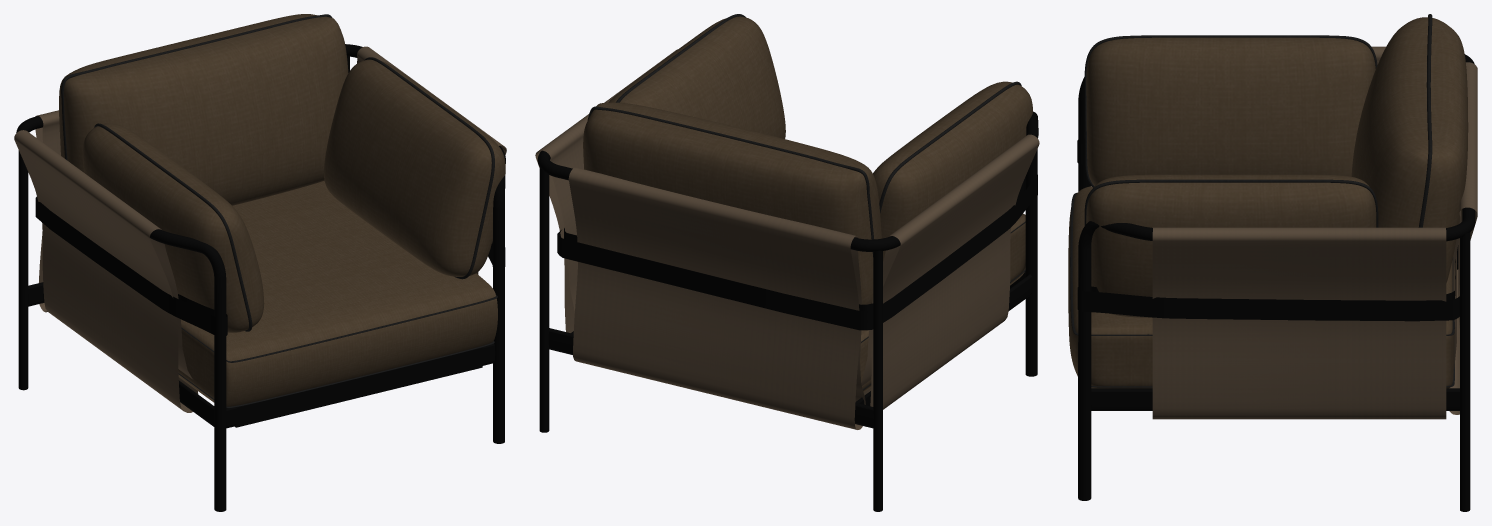
Rendered from brownchair.glb.
3 renders of one model, left to right at view 1: azimuth 30°, elevation 25°; view 2: azimuth 150°, elevation 25°; view 3: azimuth 270°, elevation 25°, orthographic. The views are drawn at different scales.
Visible parts, largest first — view 1: X4paF1JAF856AEAA65546AF_low; view 2: X4paF1JAF856AEAA65546AF_low; view 3: X4paF1JAF856AEAA65546AF_low.
Part boxes in pixels (x1,y1,x2,y2): X4paF1JAF856AEAA65546AF_low: (14, 14, 506, 511); X4paF1JAF856AEAA65546AF_low: (535, 14, 1039, 511); X4paF1JAF856AEAA65546AF_low: (1068, 14, 1477, 511).
Size of the model in its own units: 0.97 by 0.82 by 0.89.
Materials: 2 (2 with a texture image).
